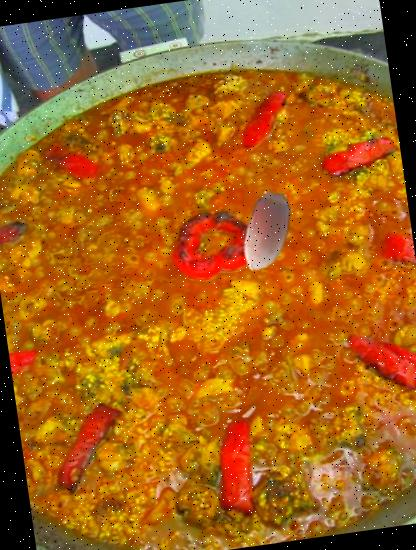Hazelnut: (221, 187, 314, 280)
